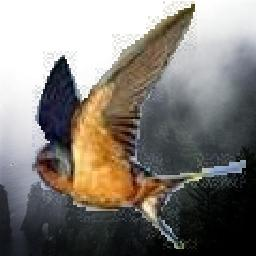Swallow: (32, 1, 246, 249)
